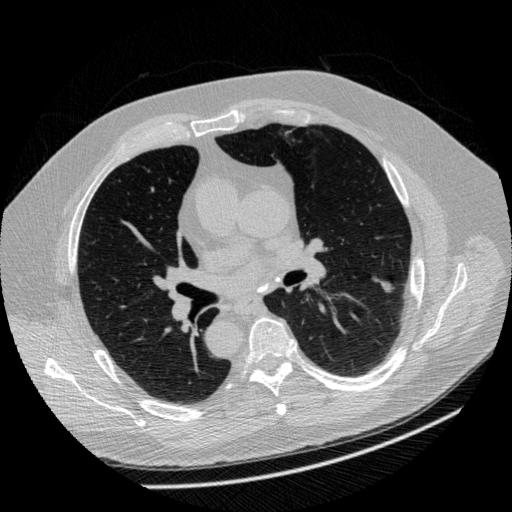nodule: (377, 274, 395, 292)
